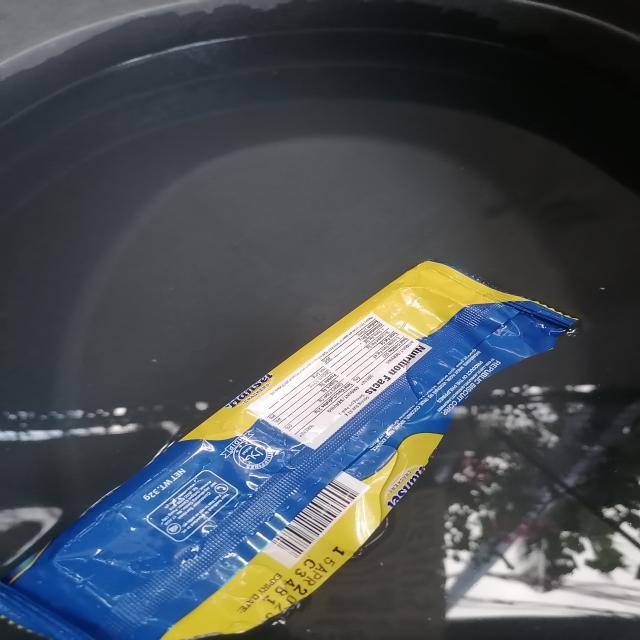Plastic Wrapper: (14, 262, 575, 640)
